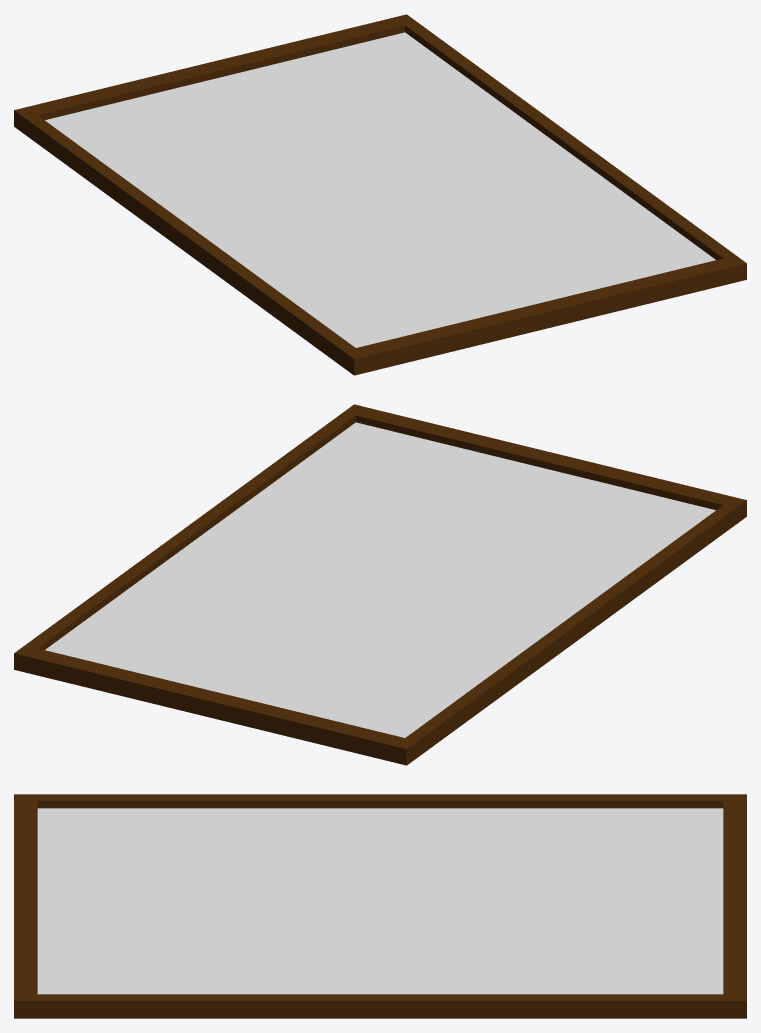
The model's file is photo.fbx.
3 views of the same model, one above another, from view 1: azimuth 30°, elevation 25°; view 2: azimuth 150°, elevation 25°; view 3: azimuth 270°, elevation 25° (orthographic). The views are drawn at different scales.
Visible parts, largest first — view 1: Plane, Cube; view 2: Plane, Cube; view 3: Plane, Cube.
Boxes of the visible parts, <box> form: Plane: <box>45,32,715,347</box>; Cube: <box>14,14,746,375</box>; Plane: <box>45,422,715,737</box>; Cube: <box>14,404,746,765</box>; Plane: <box>37,808,723,994</box>; Cube: <box>14,794,746,1018</box>.
Size of the model in its own units: 200 by 8 by 300.
